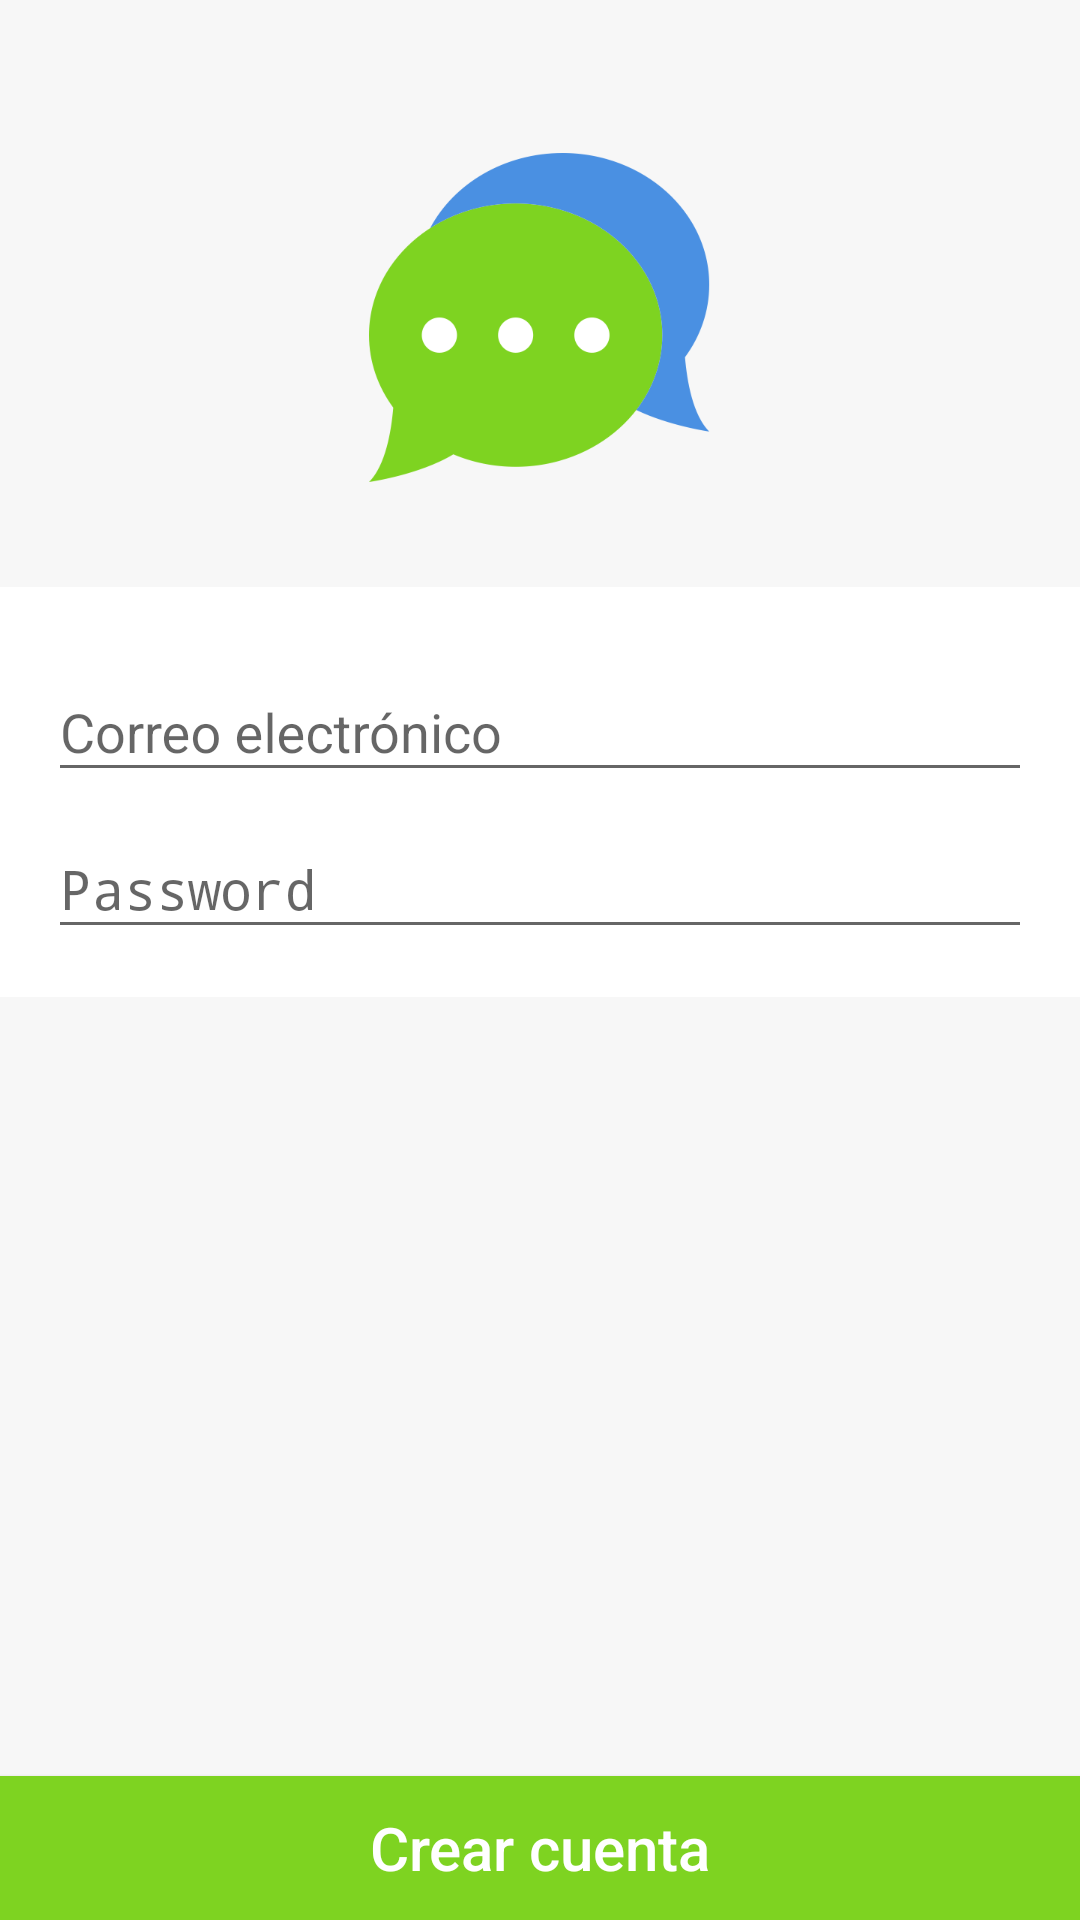

Icons on this 1080px x 1920px Android screen, each with its box as (x1, y1, x2, y2):
chat: (369, 153, 710, 482)
